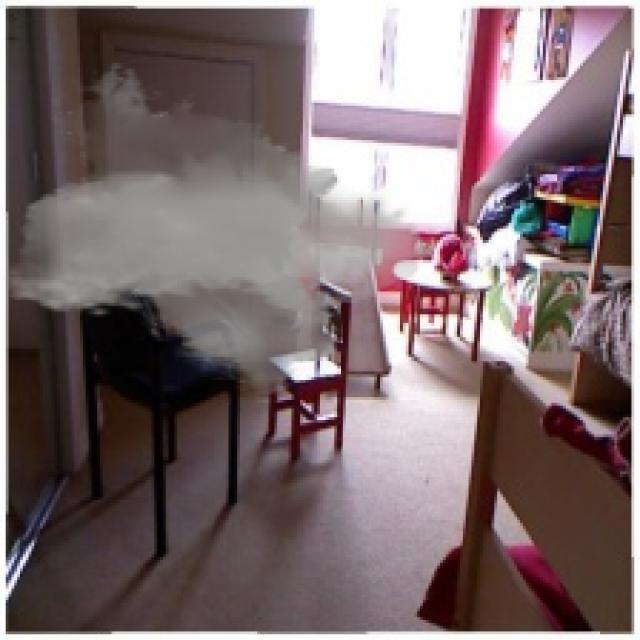smoke: (3, 60, 426, 406)
